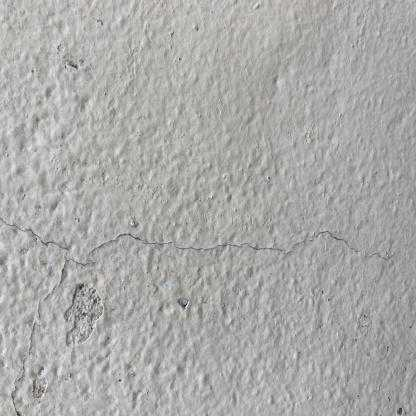crack: (11, 257, 94, 416), (91, 230, 394, 259), (1, 217, 70, 253)
